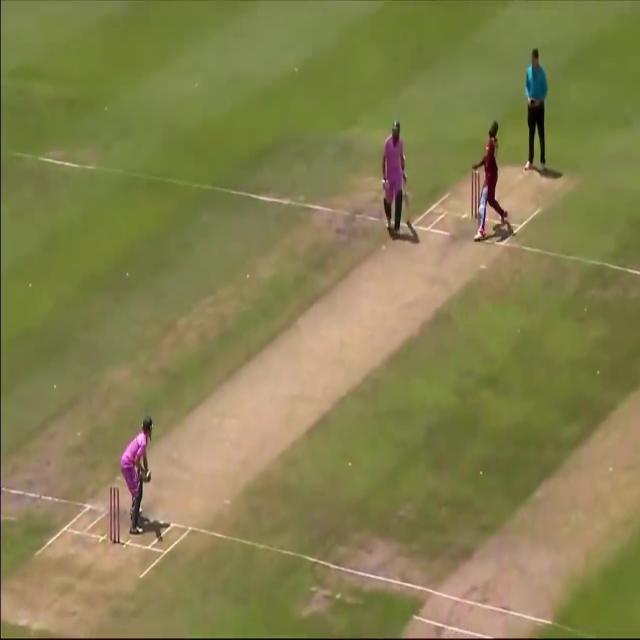Ball: (373, 118, 423, 244), (115, 410, 158, 539)
Fielder: (469, 114, 516, 243)
Umpire: (523, 45, 557, 182)
